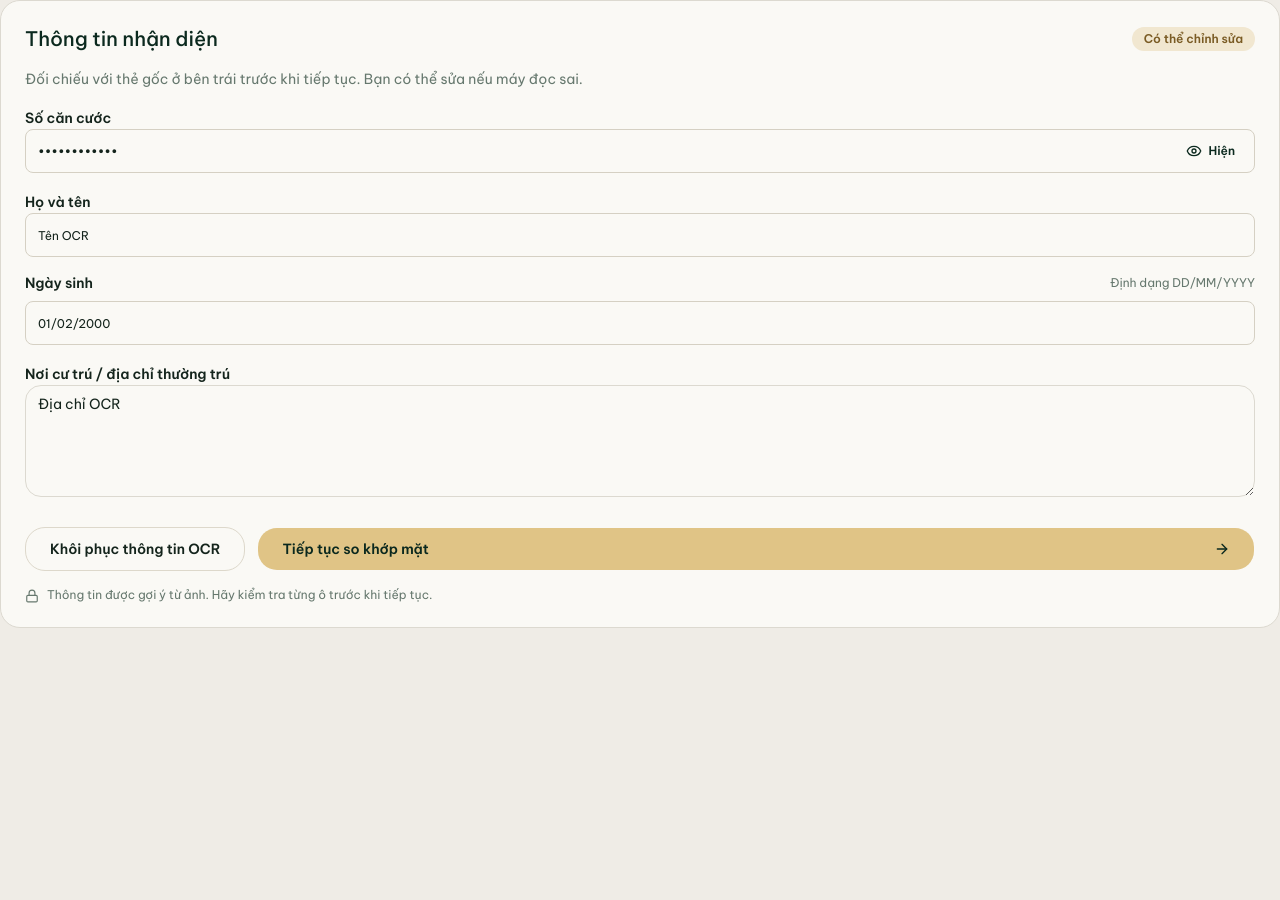
Test: keeps edits on failure and sends the beneficiary turn context on retry
The image size is (1280, 900).
Replace the text in the text box labelled "Nơi cư trú / địa chỉ thường trú" with "Địa chỉ đã sửa": [640, 441] box [25,385,1255,497]
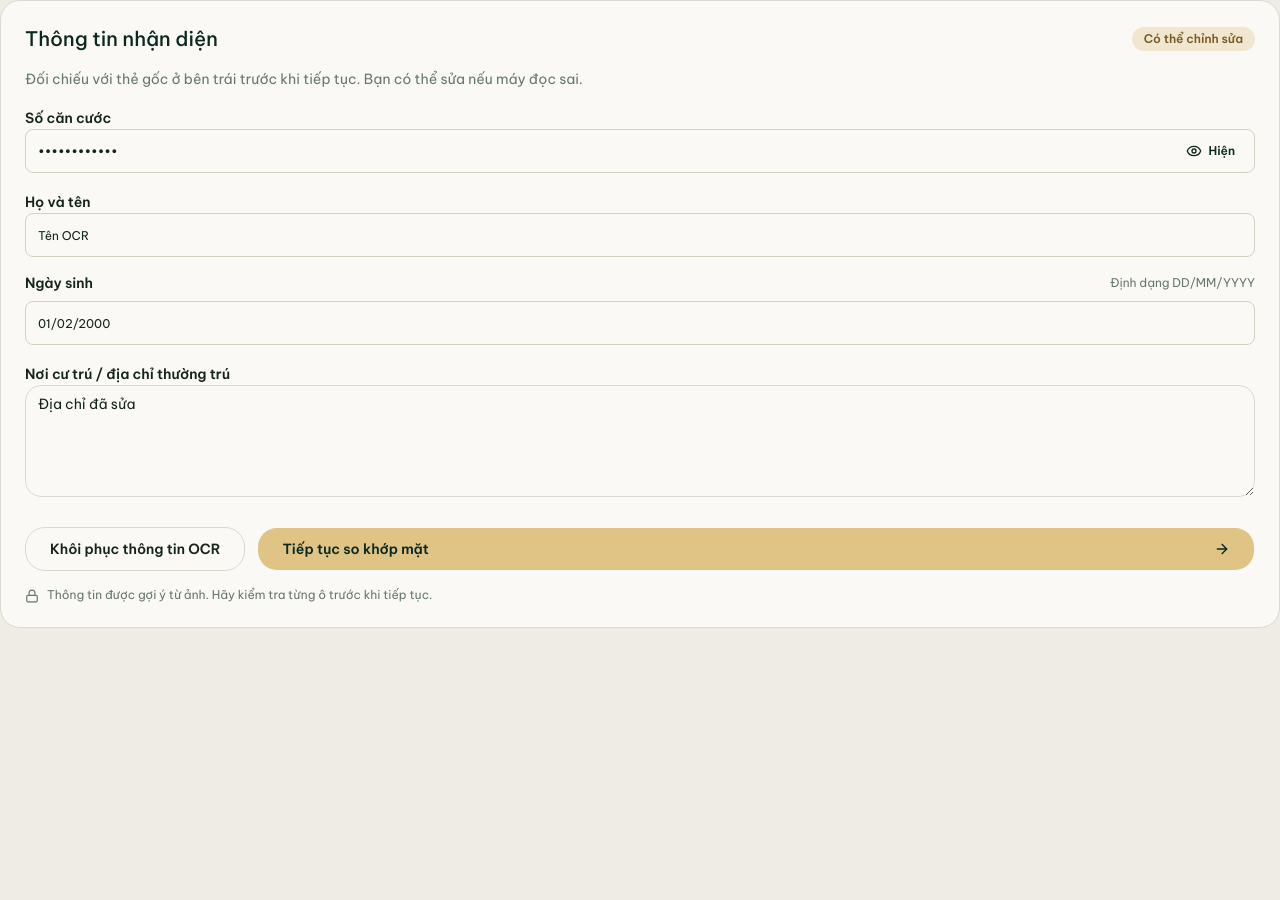
Click the button "Tiếp tục so khớp mặt": [356, 549] box [257,527,1255,571]
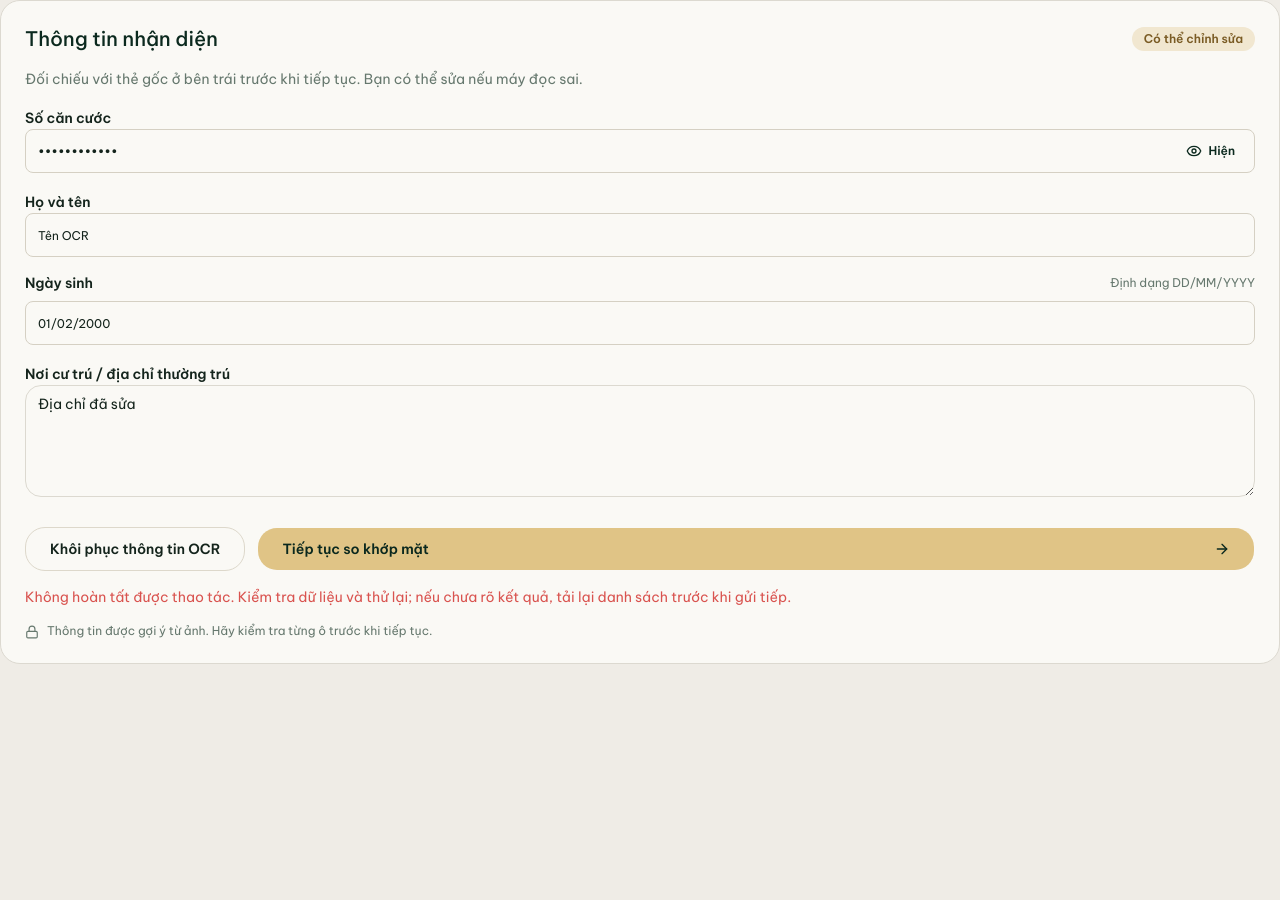
Now the message is shown, box [25,588,791,606]
Click the button "Tiếp tục so khớp mặt": [356, 549] box [257,527,1255,571]
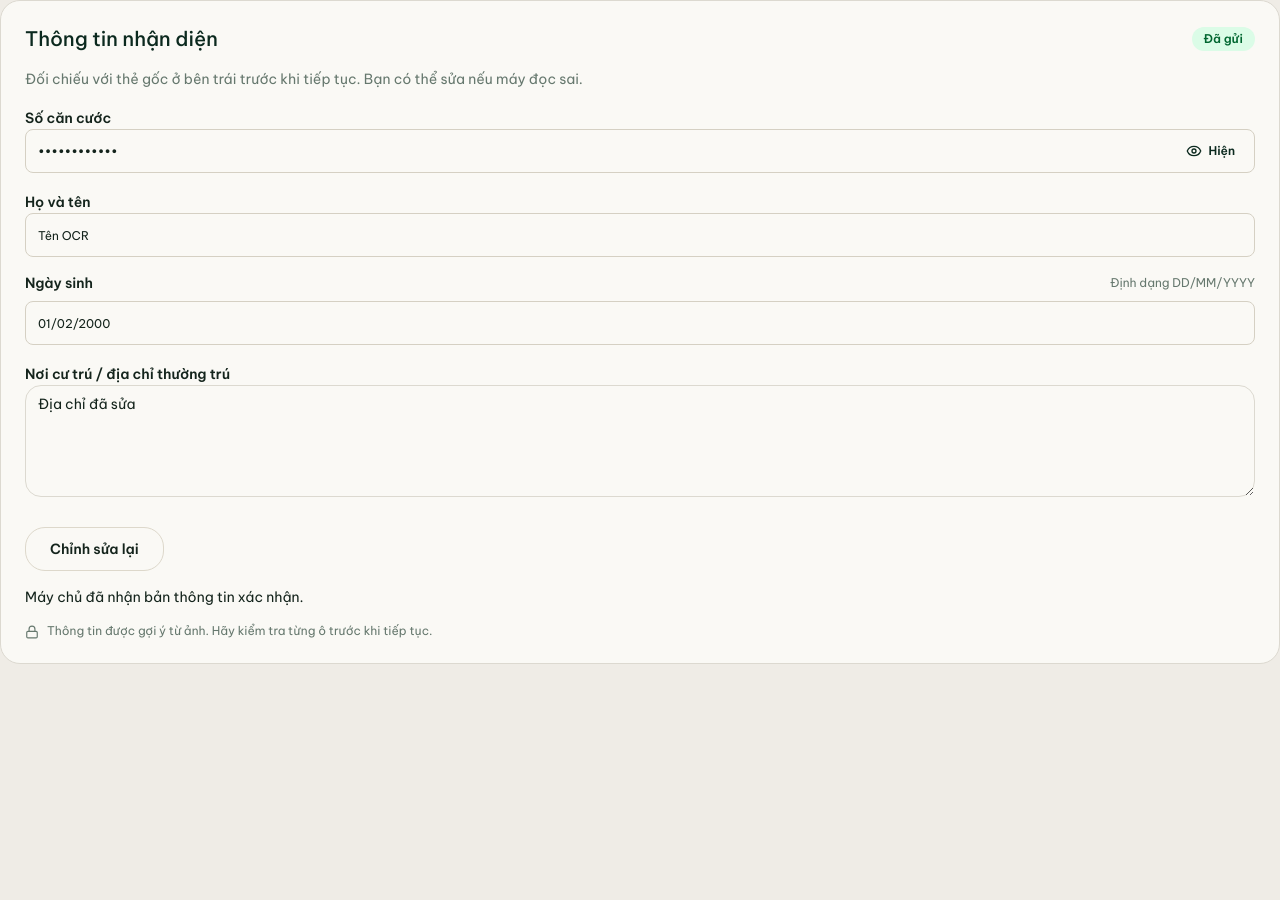
Now the message "Máy chủ đã nhận bản thông tin xác nhận." is shown, box [25,588,304,606]
